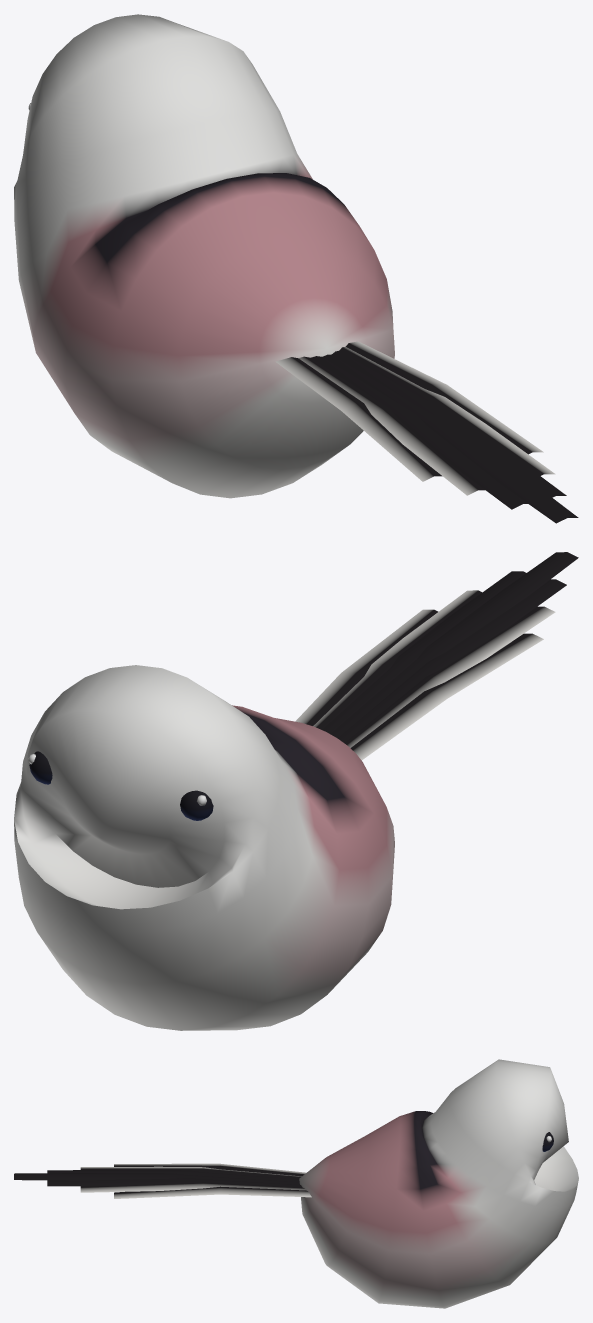
The model's file is Shimaenaga_Body.fbx.
3 views of the same model, one above another, from view 1: azimuth 30°, elevation 25°; view 2: azimuth 150°, elevation 25°; view 3: azimuth 270°, elevation 25° (orthographic). The views are drawn at different scales.
Parts seen in each view (by area): view 1: Shimaenaga_Body; view 2: Shimaenaga_Body; view 3: Shimaenaga_Body.
Boxes of the visible parts, x1,y1,x2,y2 form: Shimaenaga_Body: (14, 14, 578, 523); Shimaenaga_Body: (14, 552, 578, 1030); Shimaenaga_Body: (14, 1059, 578, 1308).
Bounding box in the file's own units: 1.92 × 2.34 × 5.21.
